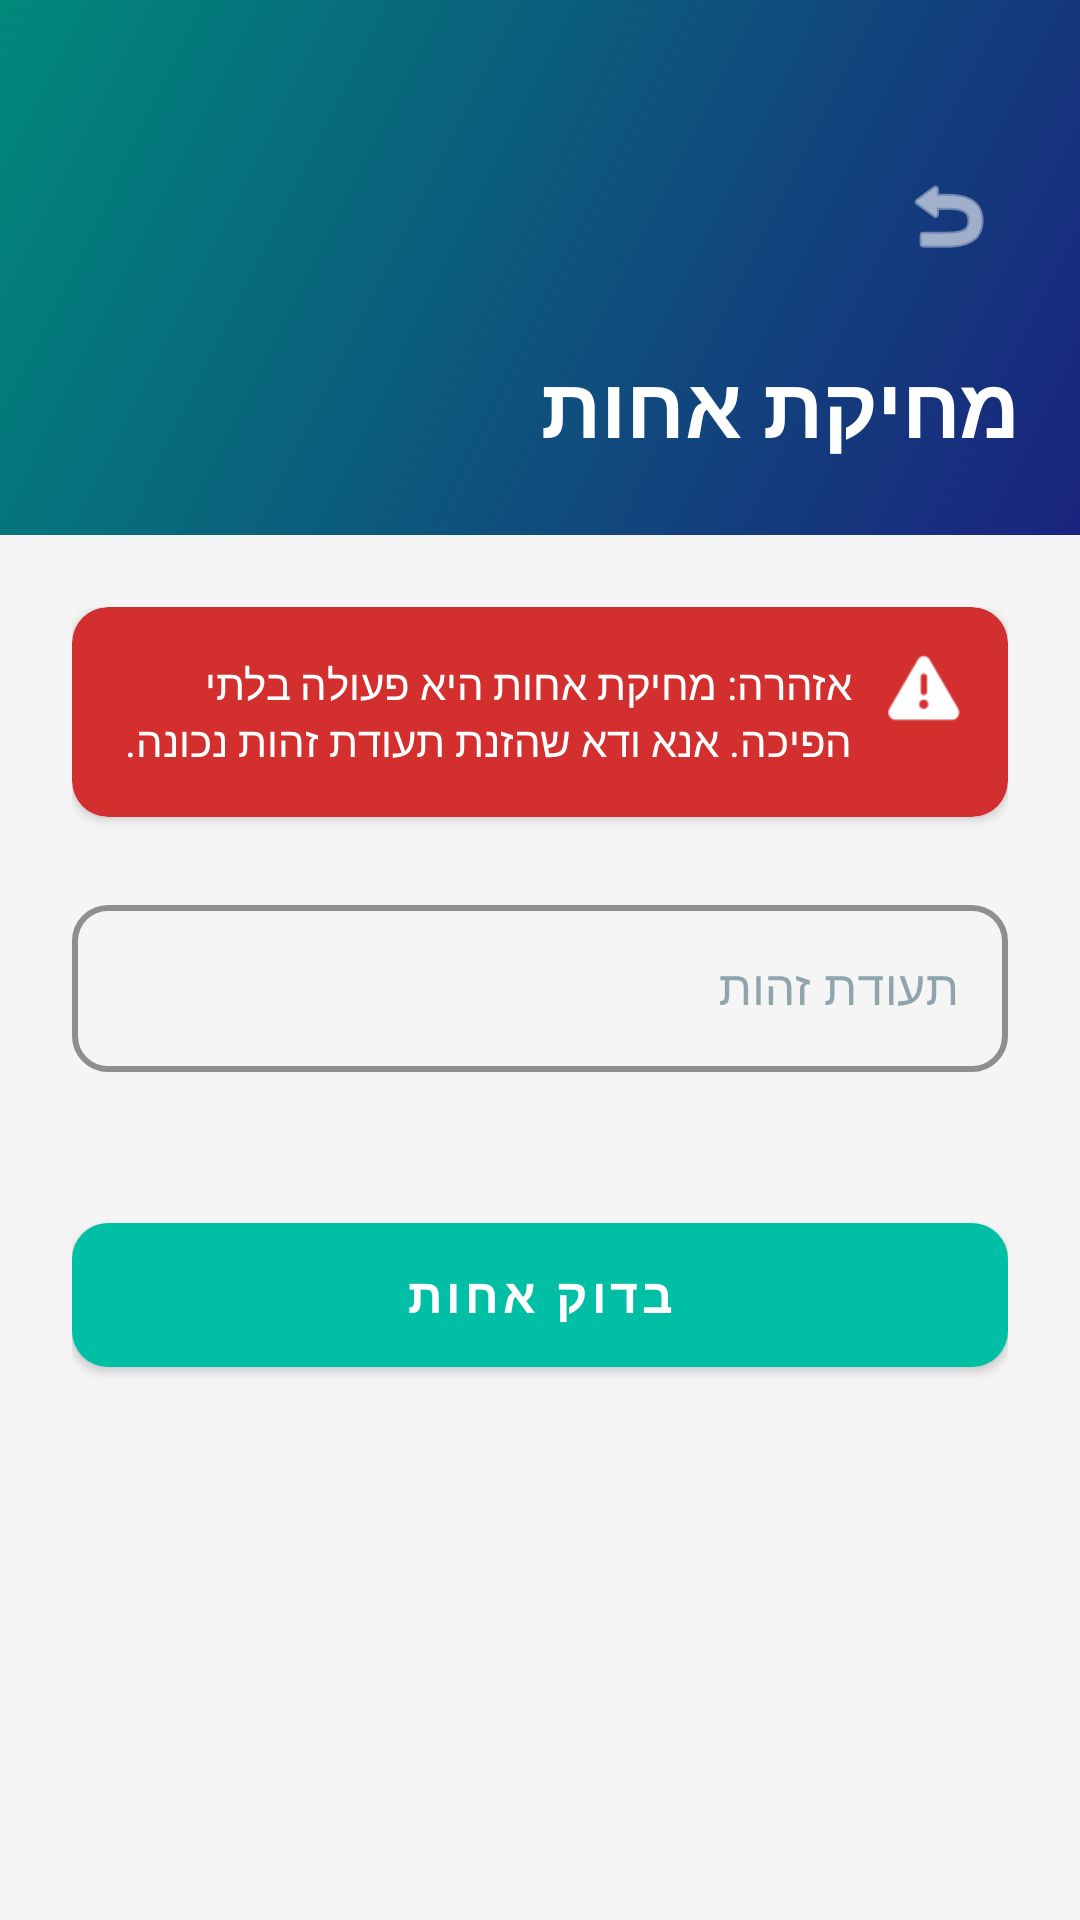

Screen size 1080 × 1920. Icon name, then its box in pixels as (x1, y1, x2, y2):
alert: (888, 655, 960, 721)
חזור: (915, 185, 984, 248)
